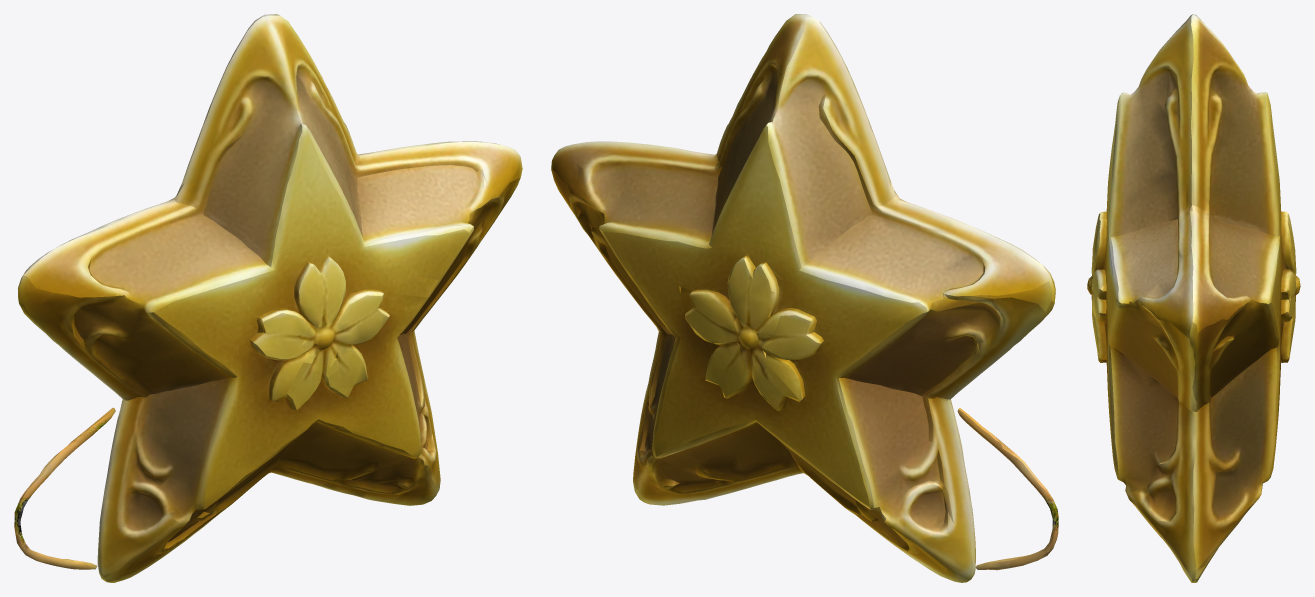
Rendered from star.glb.
The picture shows the model from 3 angles, left to right: view 1: azimuth 30°, elevation 25°; view 2: azimuth 150°, elevation 25°; view 3: azimuth 270°, elevation 25°; orthographic projection. The views are drawn at different scales.
Visible parts, largest first — view 1: geometry_0; view 2: geometry_0; view 3: geometry_0.
Boxes of the visible parts, x1=… form: geometry_0: x1=14, y1=14, x2=522, y2=582; geometry_0: x1=551, y1=14, x2=1058, y2=582; geometry_0: x1=1087, y1=14, x2=1300, y2=582.
Size of the model in its own units: 0.12 by 0.12 by 0.0467.
1 material, 1 textured.
